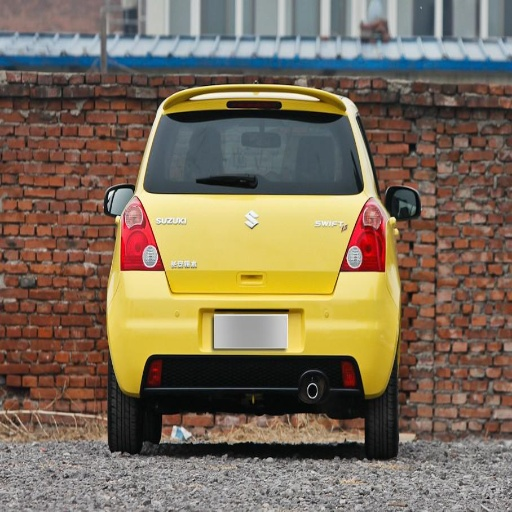back_bumper: (107, 271, 397, 397)
trunk: (141, 194, 371, 327)
